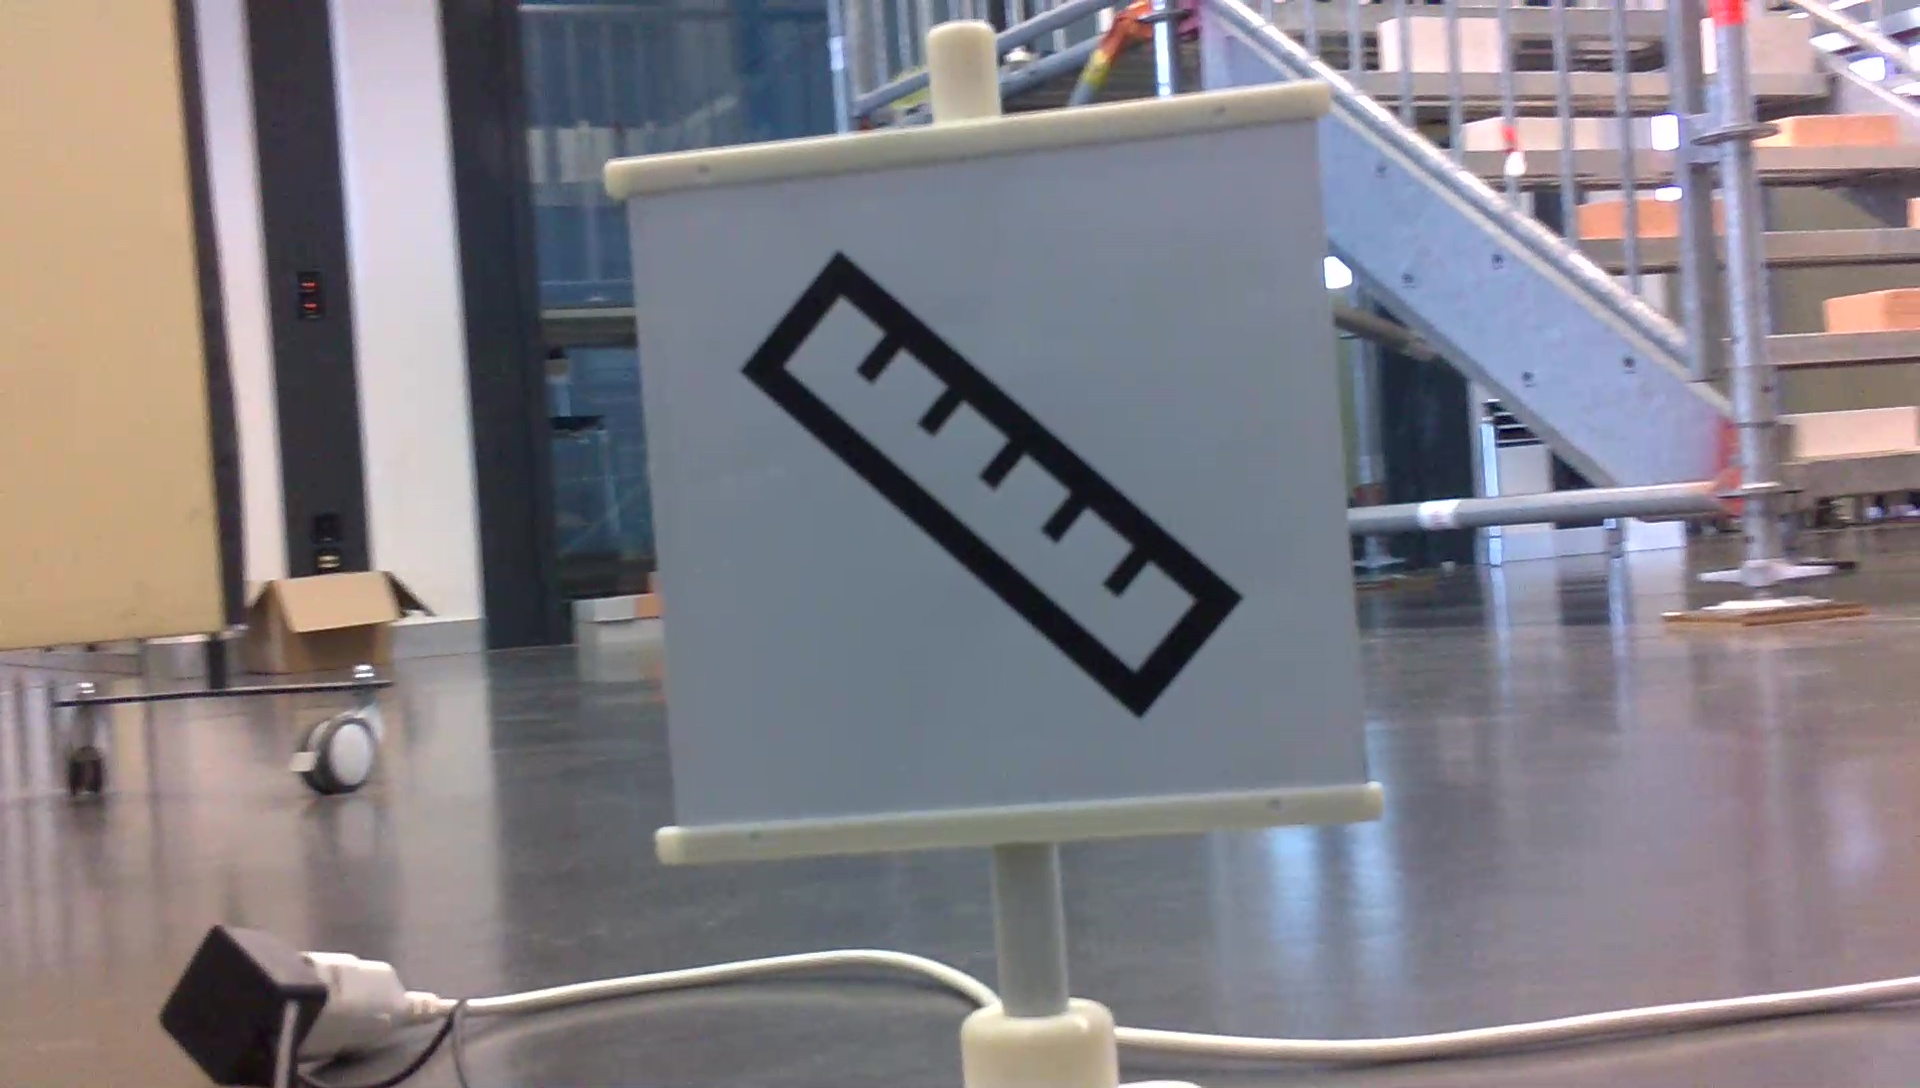brick: (1785, 411, 1920, 462), (1763, 109, 1896, 149), (1829, 290, 1920, 328)
ruler: (740, 240, 1251, 721)
